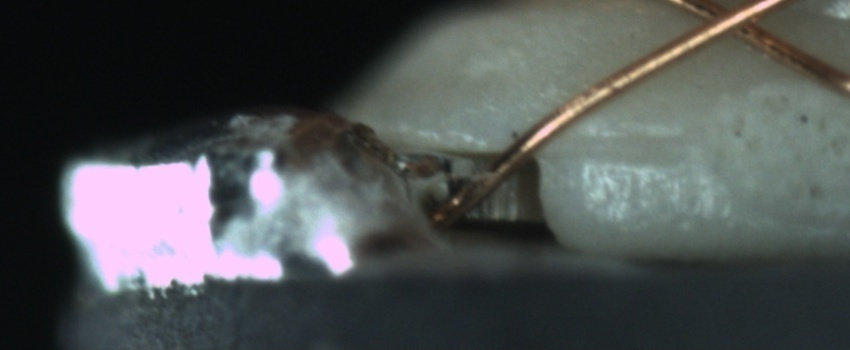CL: (673, 1, 787, 49)
DL: (529, 116, 695, 184)
